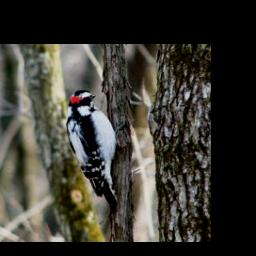Woodpecker: (63, 90, 125, 216)
